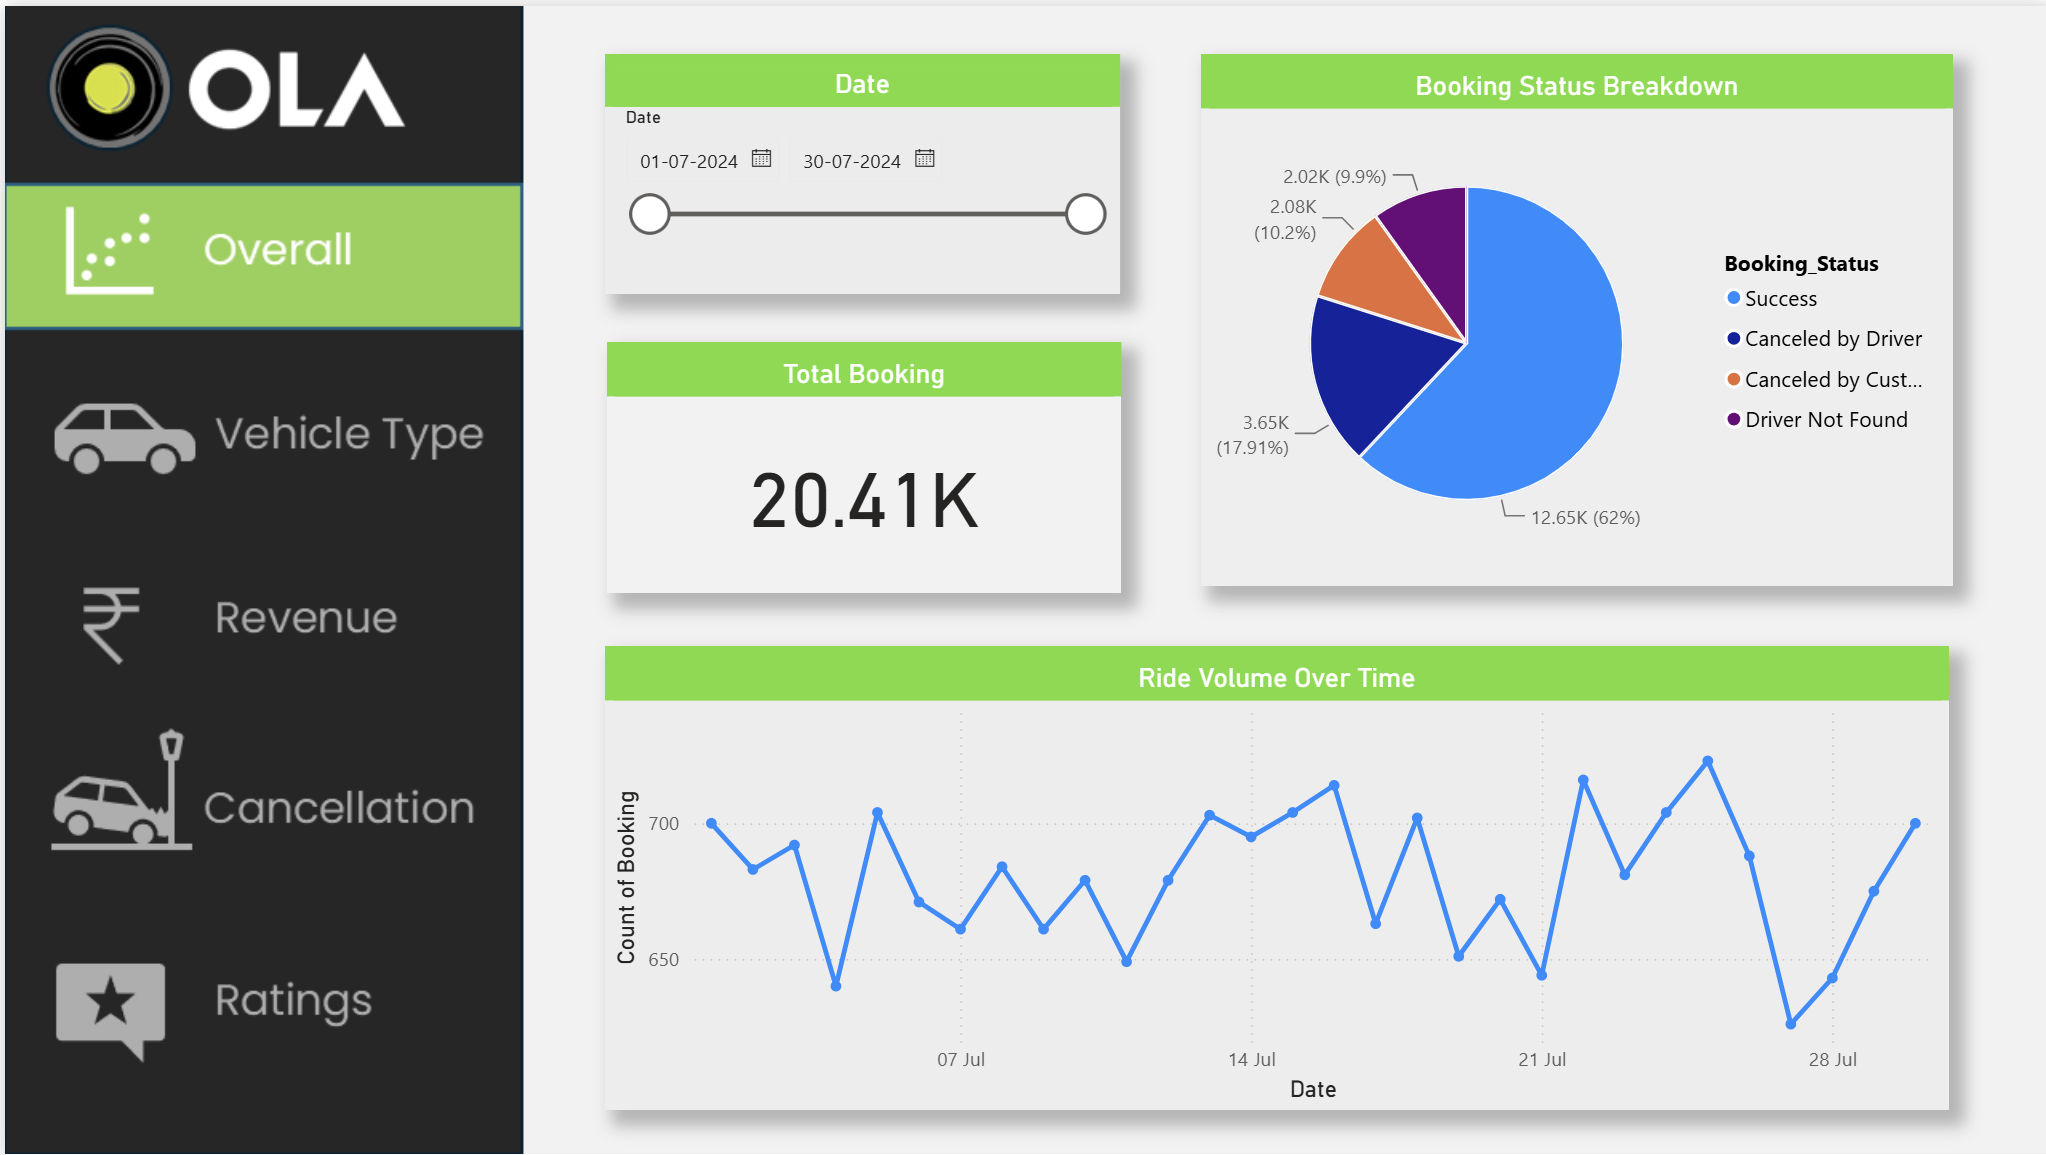

What the dashboard file says about the page in this screenshot:
{"tool":"powerbi","page":{"name":"overall","canvas":[1280,720],"ordinal":0},"visuals":[{"type":"actionButton","box":[0,209.6,323.3,91.4],"z":0},{"type":"actionButton","box":[0,332,323,92.7],"z":1000},{"type":"actionButton","box":[0,448.6,323,92.7],"z":2000},{"type":"actionButton","box":[0,580.2,323,92.7],"z":3000},{"type":"actionButton","box":[0,104.7,323,83.7],"z":4000},{"type":"lineChart","title":"Ride Volume Over Time","fields":{"Y":["CountNonNull(July.Booking_ID)"],"Category":["July.Date"]},"box":[375,400,840,290],"z":5000},{"type":"pieChart","title":"Booking Status Breakdown","fields":{"Y":["CountNonNull(July.Booking_Status)"],"Category":["July.Booking_Status"]},"box":[747.5,30,470,332.5],"z":6000},{"type":"slicer","title":"Date","fields":{"Values":["July.Date"]},"box":[375.6,30.5,322,150],"z":7000},{"type":"card","title":"Total Booking","fields":{"Values":["CountNonNull(July.Booking_ID)"]},"box":[375.7,210,321.4,157.1],"z":8000}]}

Visuals, with their boxes in screenshot pixels (x1, y1, x2, y2), scaled from the page's 1280x720 canvas onto the 2046x1155 screenshot:
actionButton: [0,336,517,483]
actionButton: [0,533,516,681]
actionButton: [0,720,516,868]
actionButton: [0,931,516,1079]
actionButton: [0,168,516,302]
"Ride Volume Over Time" lineChart: [599,642,1942,1107]
"Booking Status Breakdown" pieChart: [1195,48,1946,582]
"Date" slicer: [600,49,1115,290]
"Total Booking" card: [601,337,1114,589]
